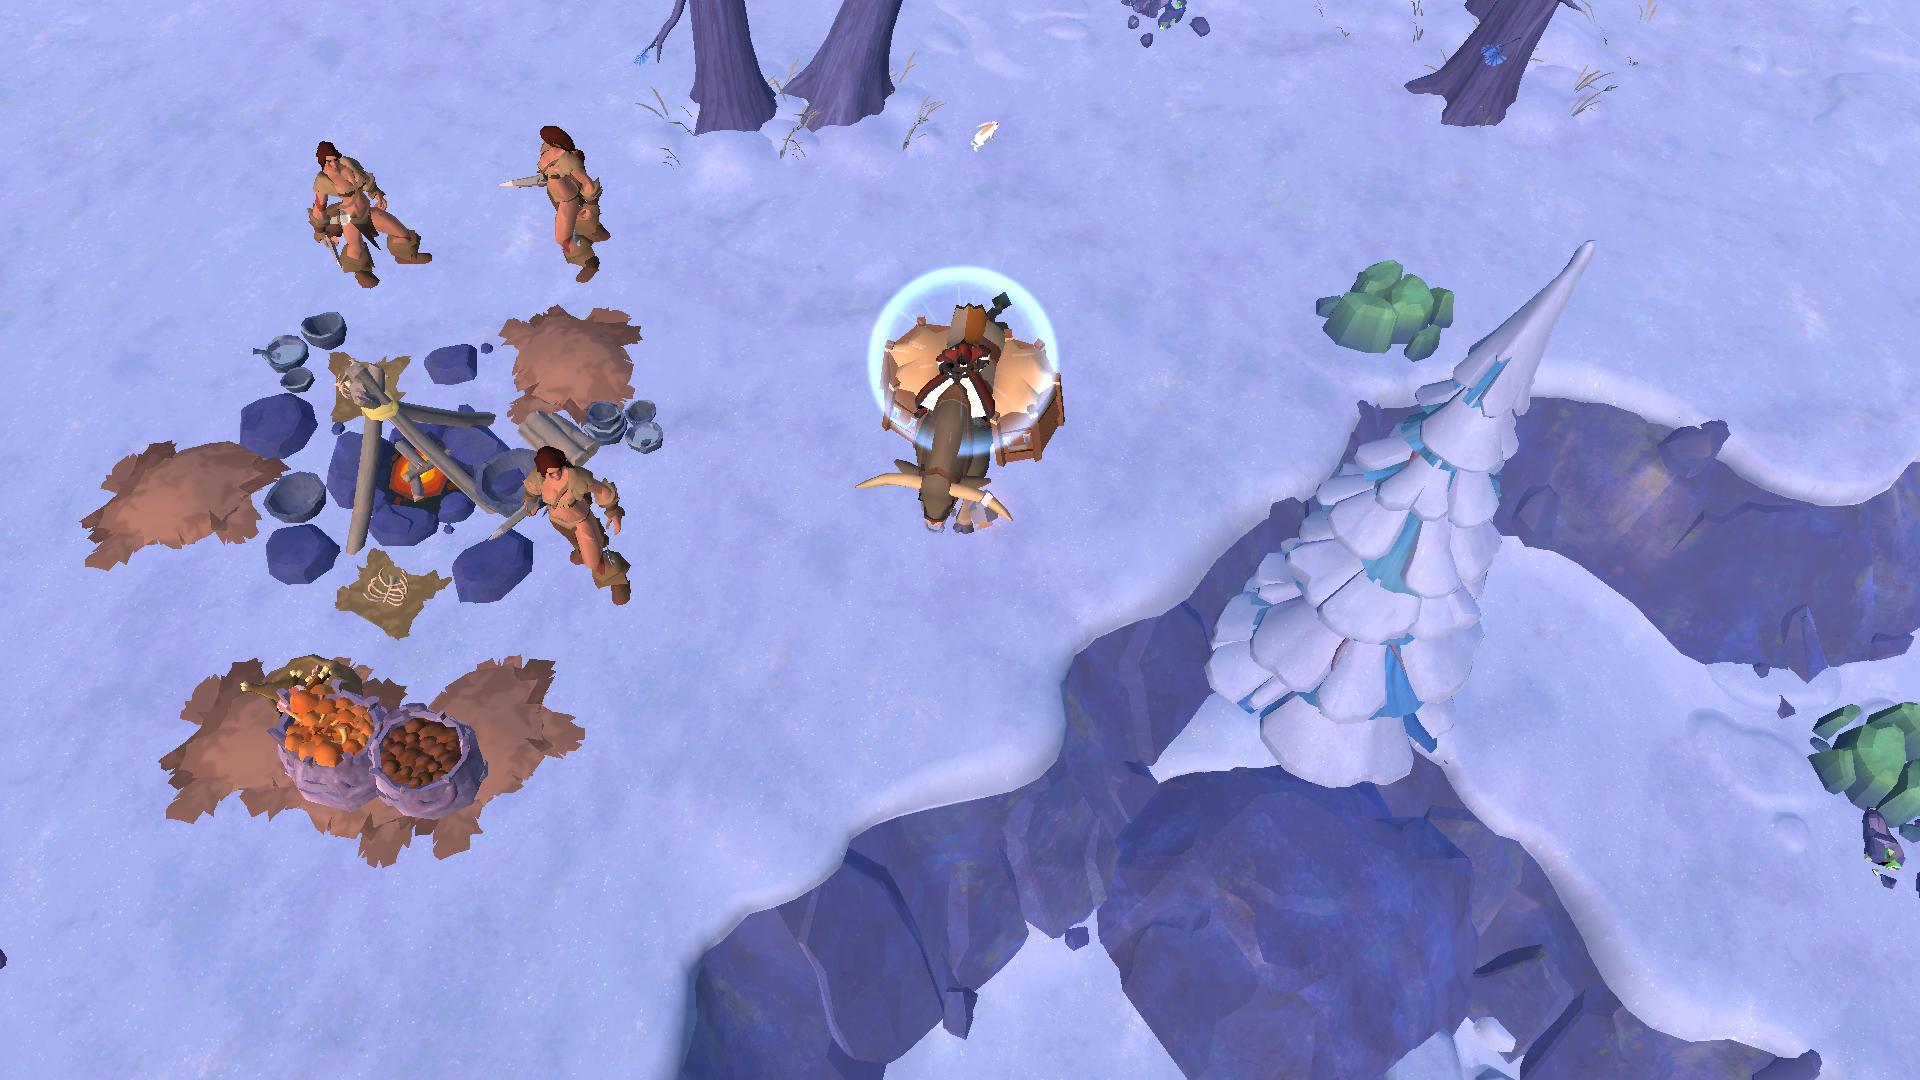enemy_factionKeeper: (510, 439, 640, 618), (309, 131, 433, 287), (508, 125, 616, 289)
rock_t3: (1803, 692, 1920, 837), (1302, 253, 1456, 356)
